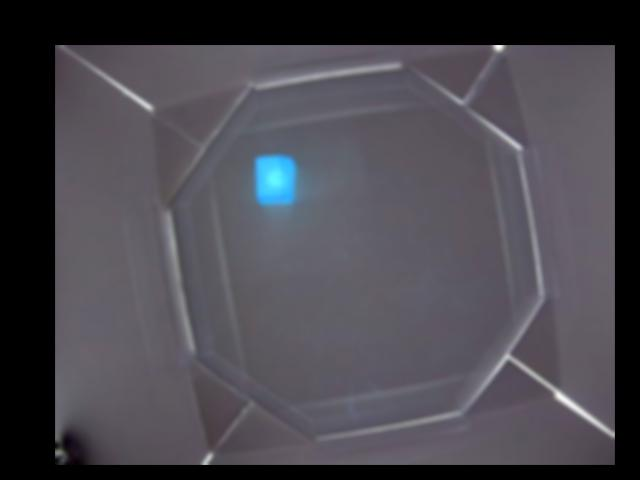Carrot: (254, 154, 298, 205)
